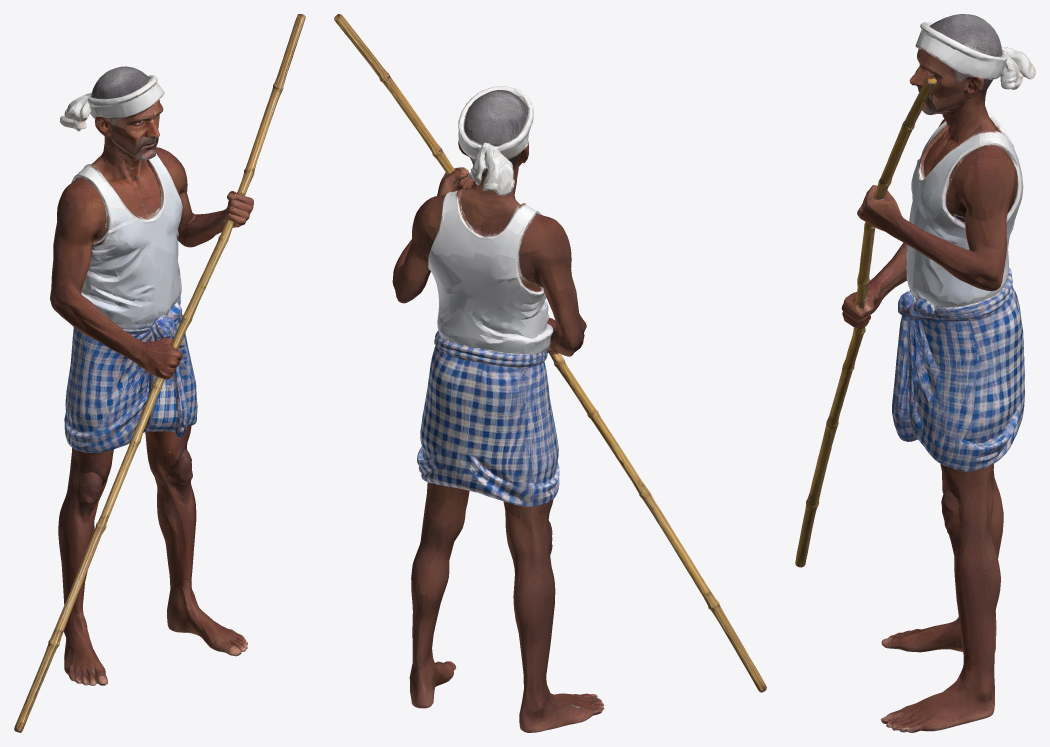
The model's file is boatman-s.glb.
3 renders of one model, left to right at view 1: azimuth 30°, elevation 25°; view 2: azimuth 150°, elevation 25°; view 3: azimuth 270°, elevation 25°, orthographic. The views are drawn at different scales.
Size of the model in its own units: 1.14 by 1.9 by 0.5965.
Materials: 1 (1 with a texture image).
